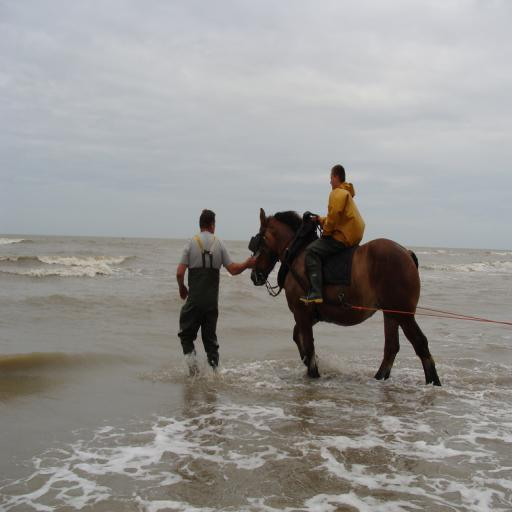horse: (248, 206, 442, 387)
